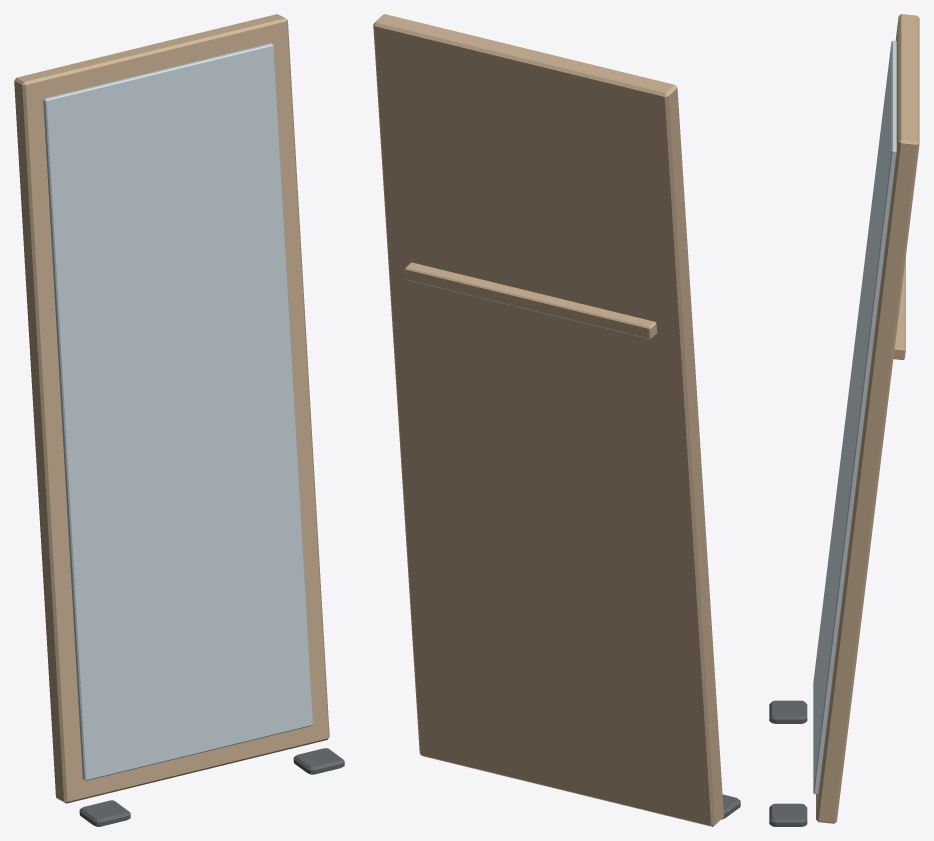
File: SM_Retail_25296_LeaningMirror.fbx
3 renders of one model, left to right at view 1: azimuth 30°, elevation 25°; view 2: azimuth 150°, elevation 25°; view 3: azimuth 270°, elevation 25°, orthographic. The views are drawn at different scales.
Parts seen in each view (by area): view 1: SM_Retail_25296_LeaningMirror; view 2: SM_Retail_25296_LeaningMirror; view 3: SM_Retail_25296_LeaningMirror.
Boxes of the visible parts, bbox=[...] form: SM_Retail_25296_LeaningMirror: bbox=[14, 14, 344, 826]; SM_Retail_25296_LeaningMirror: bbox=[373, 14, 740, 826]; SM_Retail_25296_LeaningMirror: bbox=[769, 14, 919, 826].
Size of the model in its own units: 72.01 by 35.68 by 181.
